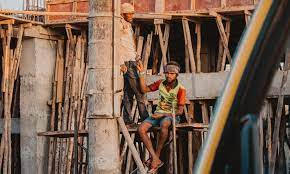arm: (175, 83, 187, 119)
face: (164, 68, 179, 84)
helmet: (119, 1, 135, 14)
human: (134, 58, 188, 172)
leg: (138, 126, 166, 174), (155, 116, 172, 163)
noglove: (117, 64, 131, 78), (135, 61, 146, 76)
nogoggle: (165, 70, 178, 77)
nohelmet: (163, 60, 182, 82)
novest: (149, 78, 184, 118), (120, 23, 142, 59)
vest: (146, 79, 183, 118)
